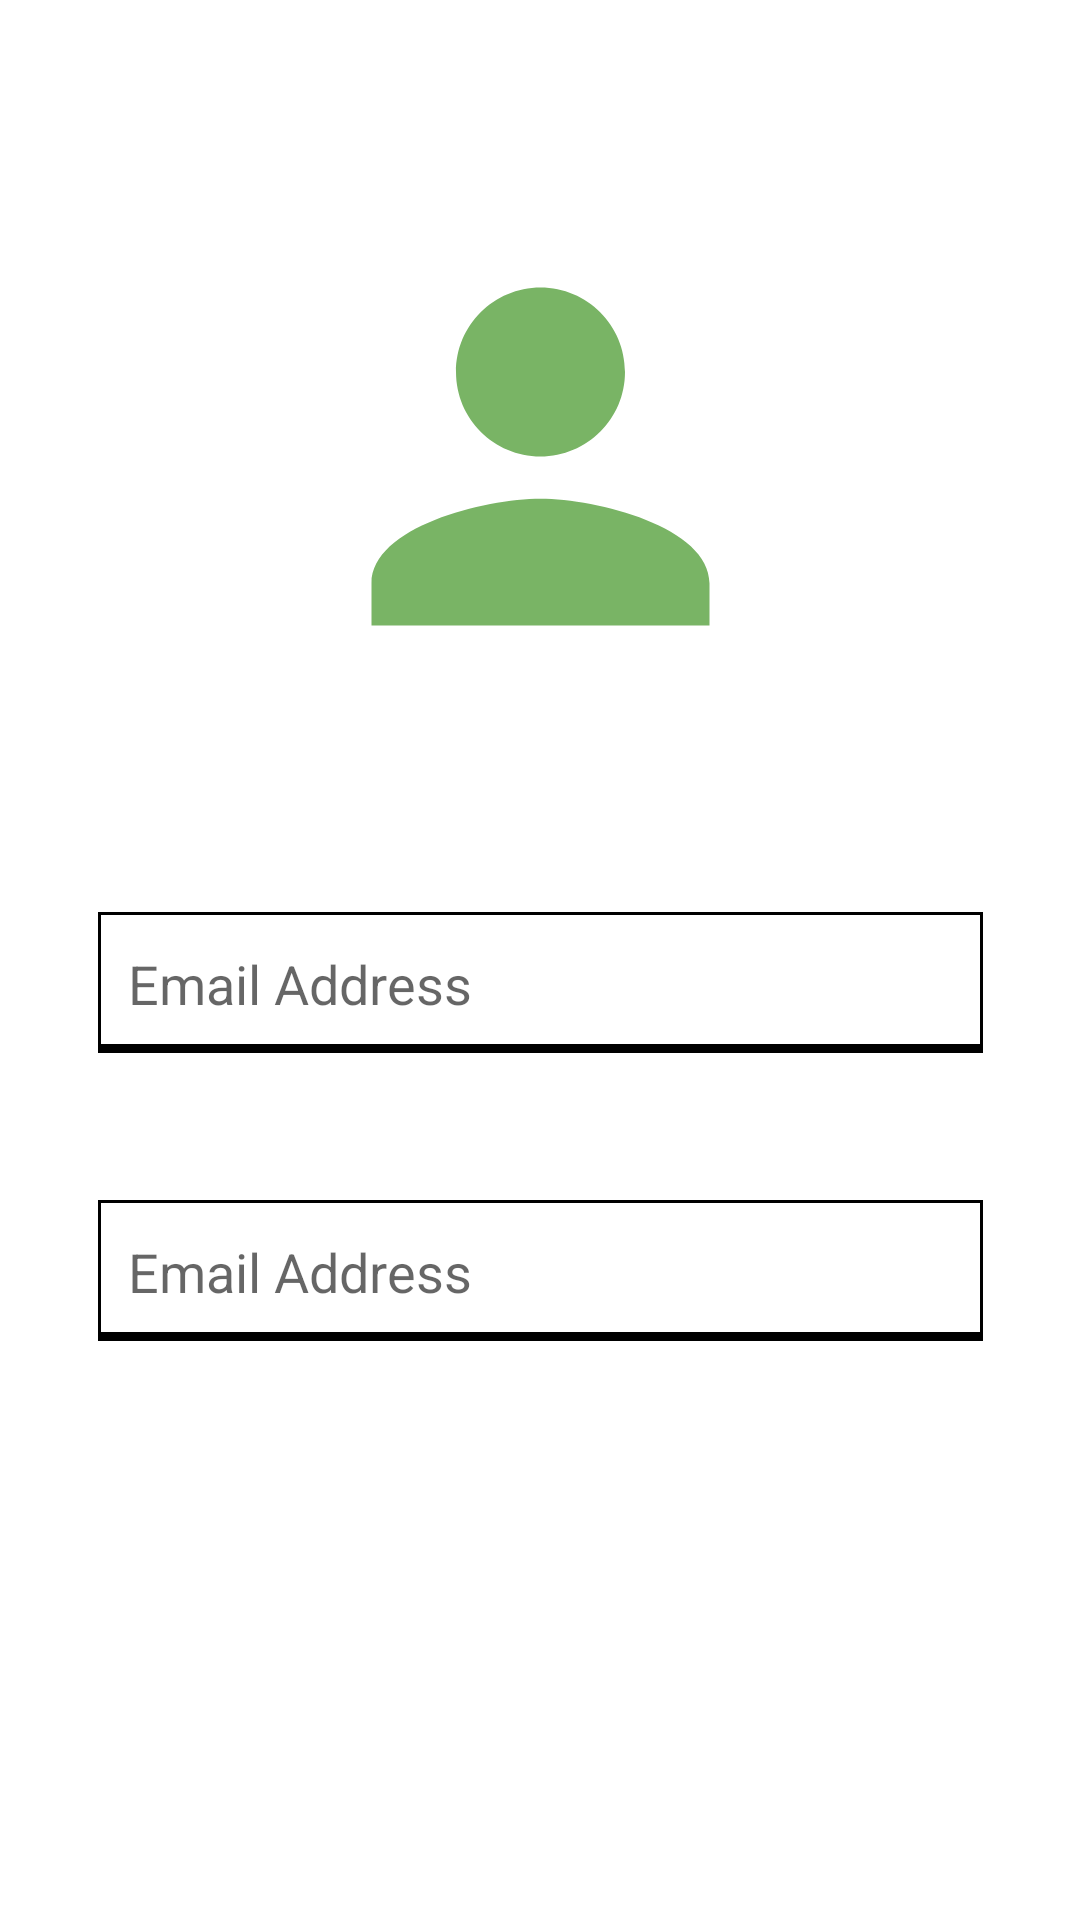

Where icons sit on this 1080x1920 app screen, as (x1, y1, x2, y2):
person: (371, 287, 710, 626)
